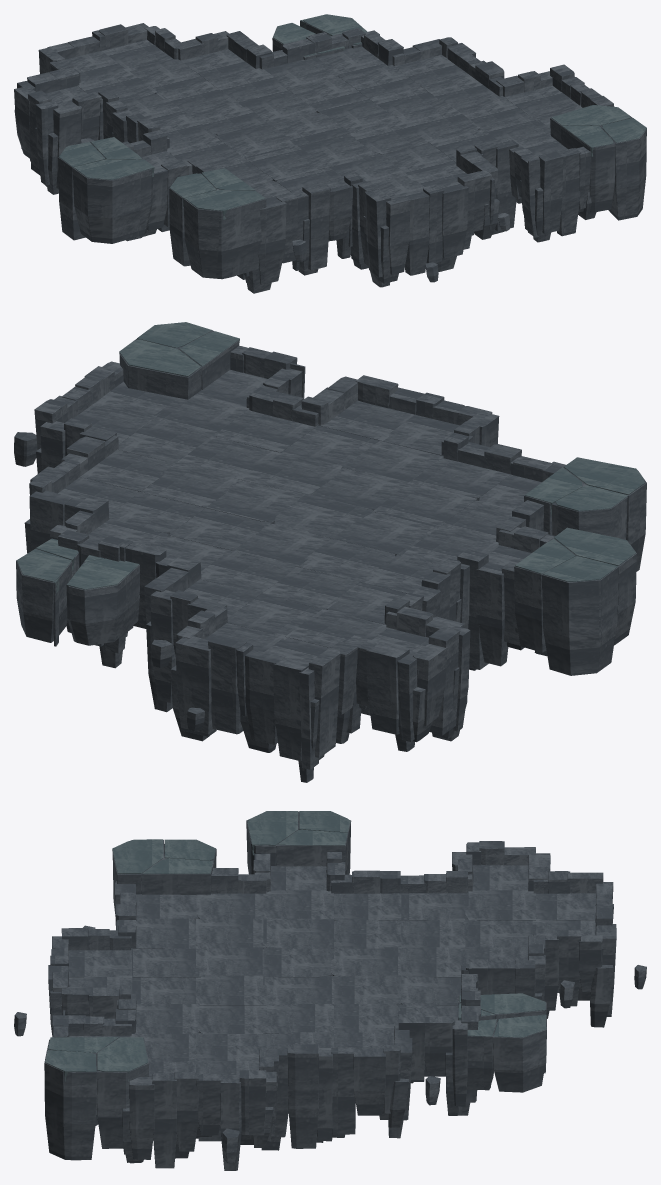
File: chapter2_stage8_geology.glb
3 renders of one model, top to bottom at view 1: azimuth 30°, elevation 25°; view 2: azimuth 150°, elevation 25°; view 3: azimuth 270°, elevation 25°, orthographic. The views are drawn at different scales.
Visible parts, largest first — view 1: stage8_continuous_rock_strata; view 2: stage8_continuous_rock_strata; view 3: stage8_continuous_rock_strata.
Part boxes in pixels (bbox=[...]): stage8_continuous_rock_strata: bbox=[14, 14, 646, 293]; stage8_continuous_rock_strata: bbox=[14, 322, 646, 782]; stage8_continuous_rock_strata: bbox=[14, 811, 646, 1170].
Size of the model in its own units: 9.89 by 1.97 by 9.4.
2 materials, 2 textured.
